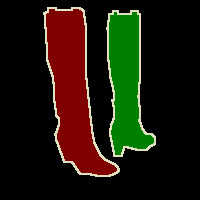shoe: (44, 8, 119, 176), (107, 10, 155, 156)
